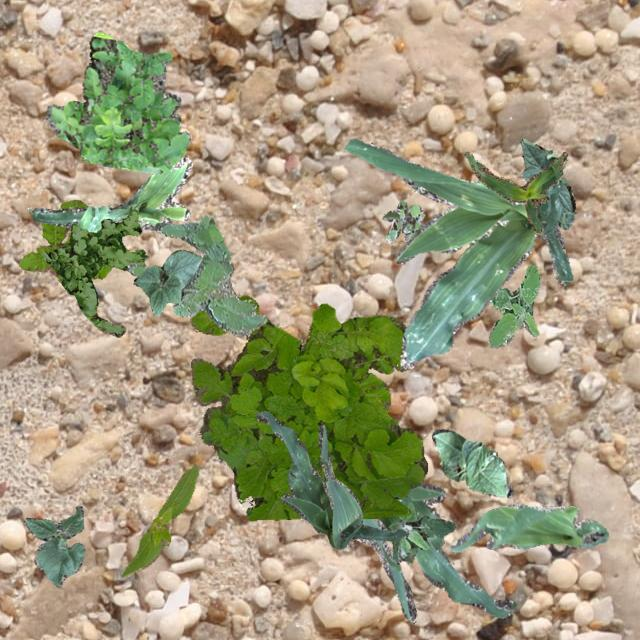crop: (342, 138, 572, 368), (354, 480, 514, 620), (255, 409, 408, 548), (30, 156, 192, 232), (120, 466, 198, 576), (464, 150, 566, 232), (450, 502, 608, 550), (432, 428, 512, 496), (22, 504, 84, 586), (520, 138, 574, 228), (132, 248, 200, 314)
weed: (188, 294, 426, 520), (44, 32, 190, 174), (127, 215, 266, 336), (42, 208, 146, 336), (19, 198, 111, 280), (388, 496, 454, 562), (488, 264, 538, 346), (382, 200, 424, 242)
